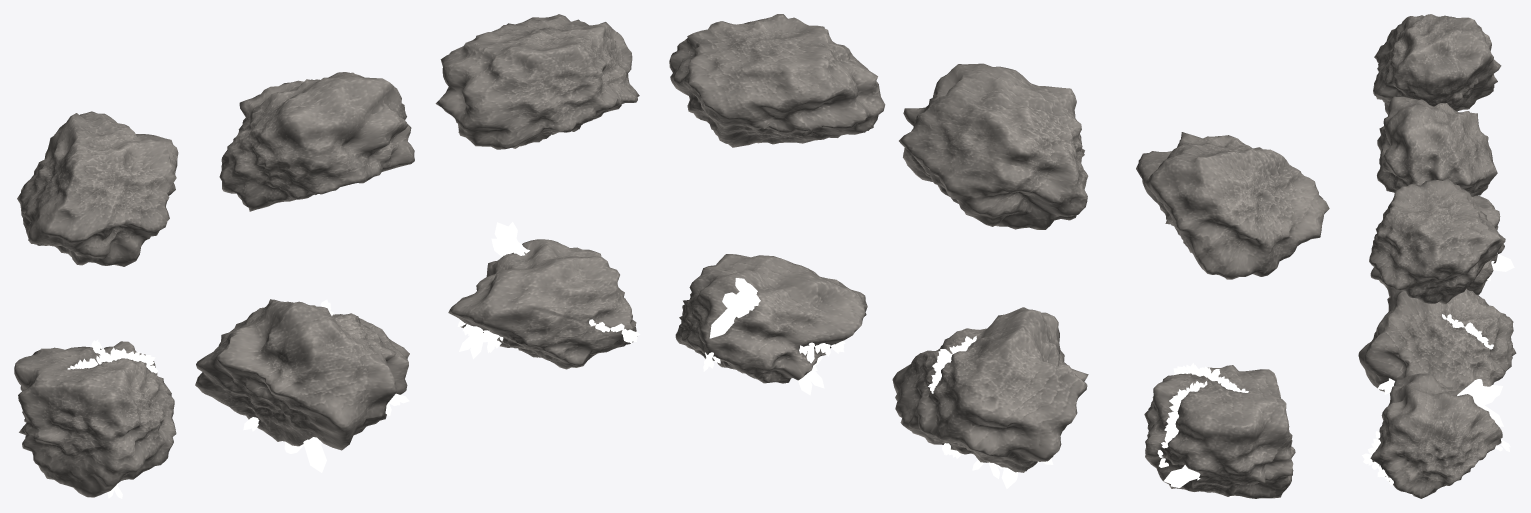
The model's file is asteroids.glb.
The picture shows the model from 3 angles, left to right: view 1: azimuth 30°, elevation 25°; view 2: azimuth 150°, elevation 25°; view 3: azimuth 270°, elevation 25°; orthographic projection. The views are drawn at different scales.
Parts seen in each view (by area): view 1: Rock_4, Rock_2, Rock_3, Rock_1, Rock_0, Rock_5; view 2: Rock_1, Rock_4, Rock_2, Rock_0, Rock_5, Rock_3; view 3: Rock_5, Rock_2, Rock_4, Rock_0, Rock_1, Rock_3.
Boxes of the visible parts, x1,y1,x2,y2 form: Rock_4: (195,299,409,472); Rock_2: (435,14,639,149); Rock_3: (14,339,176,498); Rock_1: (219,72,414,211); Rock_0: (17,111,178,266); Rock_5: (448,222,640,369); Rock_1: (899,63,1088,229); Rock_4: (892,307,1088,488); Rock_2: (669,14,885,147); Rock_0: (1136,132,1329,279); Rock_5: (675,254,867,395); Rock_3: (1144,363,1295,498); Rock_5: (1362,373,1510,498); Rock_2: (1369,178,1505,304); Rock_4: (1358,288,1516,394); Rock_0: (1373,14,1501,114); Rock_1: (1377,96,1497,196); Rock_3: (1370,195,1514,296).
Bounding box in the file's own units: 16.76 × 10.05 × 4.55.
Materials: 2 (1 with a texture image).
